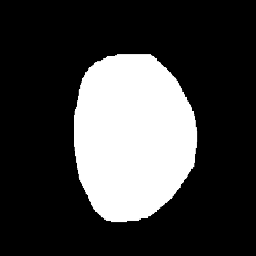mass: (77, 54, 195, 211)
